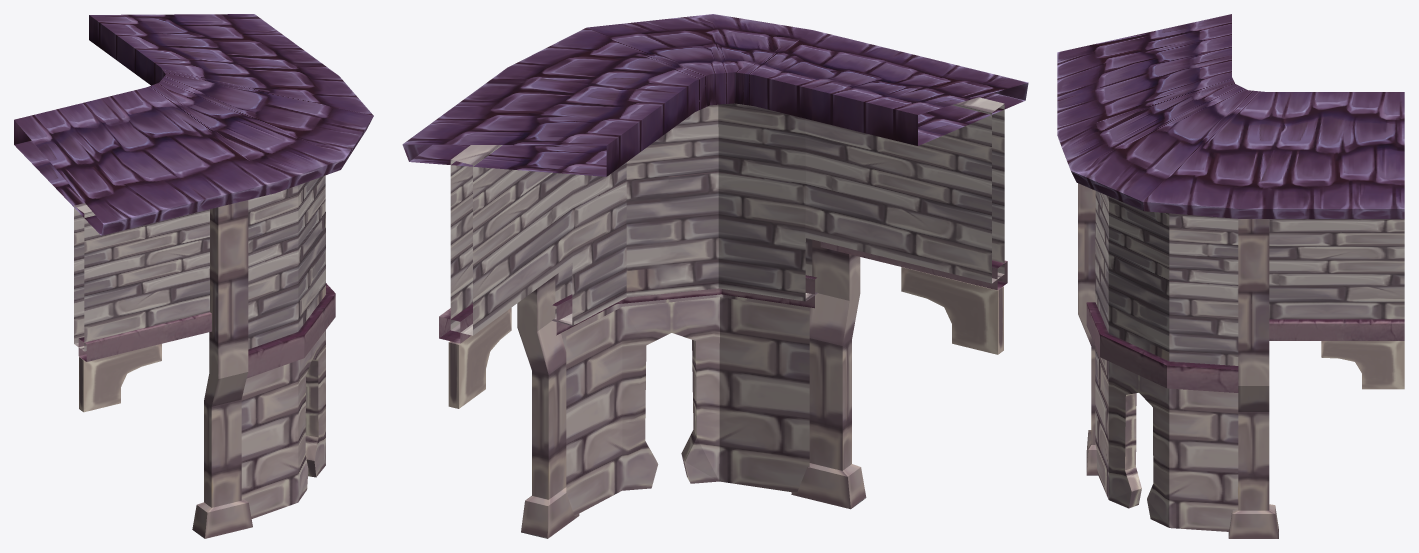
The model's file is fangzi04.fbx.
3 renders of one model, left to right at view 1: azimuth 30°, elevation 25°; view 2: azimuth 150°, elevation 25°; view 3: azimuth 270°, elevation 25°, orthographic. The views are drawn at different scales.
Parts seen in each view (by area): view 1: 对象001; view 2: 对象001; view 3: 对象001.
Boxes of the visible parts, x1,y1,x2,y2 form: 对象001: [14, 14, 373, 538]; 对象001: [402, 14, 1028, 538]; 对象001: [1057, 14, 1404, 538].
Size of the model in its own units: 47.81 by 54.58 by 44.82.
Materials: 1 (1 with a texture image).
